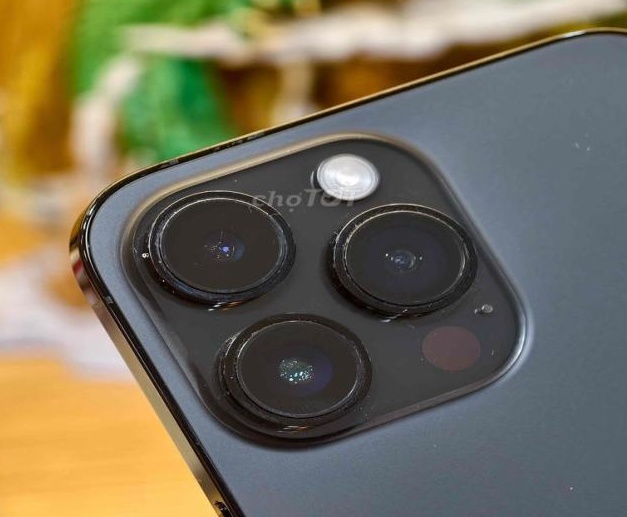scratch: (209, 330, 309, 436), (130, 213, 193, 294), (554, 77, 604, 174), (241, 184, 309, 227), (383, 302, 442, 340), (422, 434, 458, 466), (562, 476, 594, 498)
